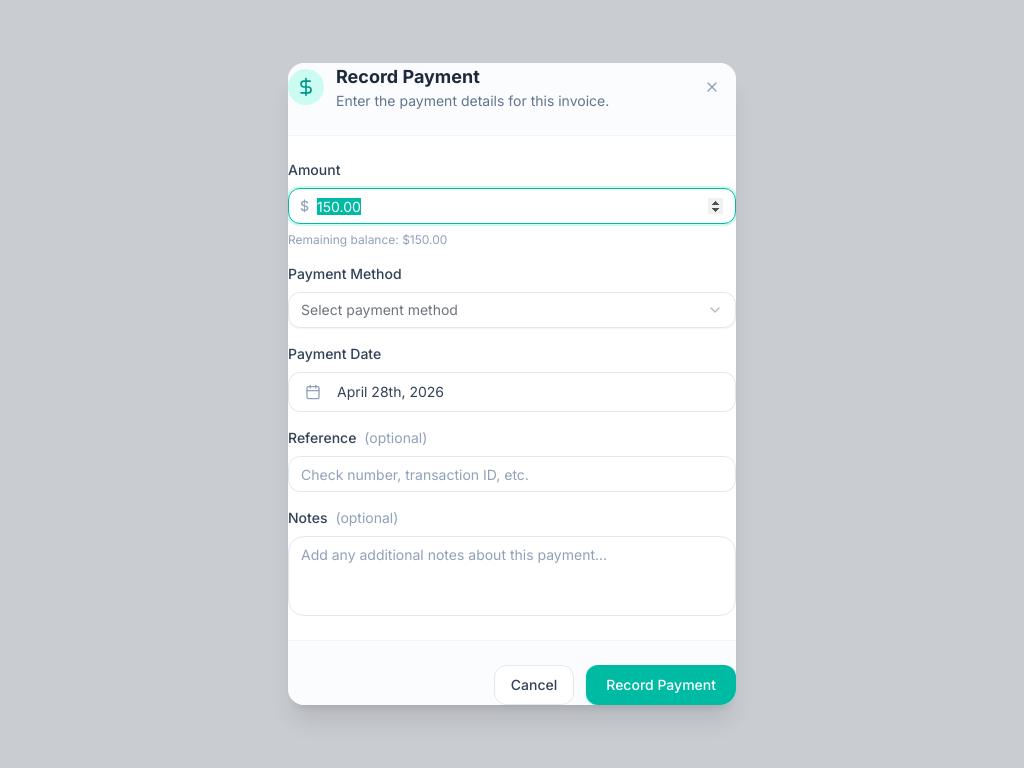
PaymentDialog › shows error when amount is invalid
This screenshot has width=1024, height=768.
Replace the text in the number field with test id "payment-amount" with "0" at x=512, y=206, box [288,188,736,224]
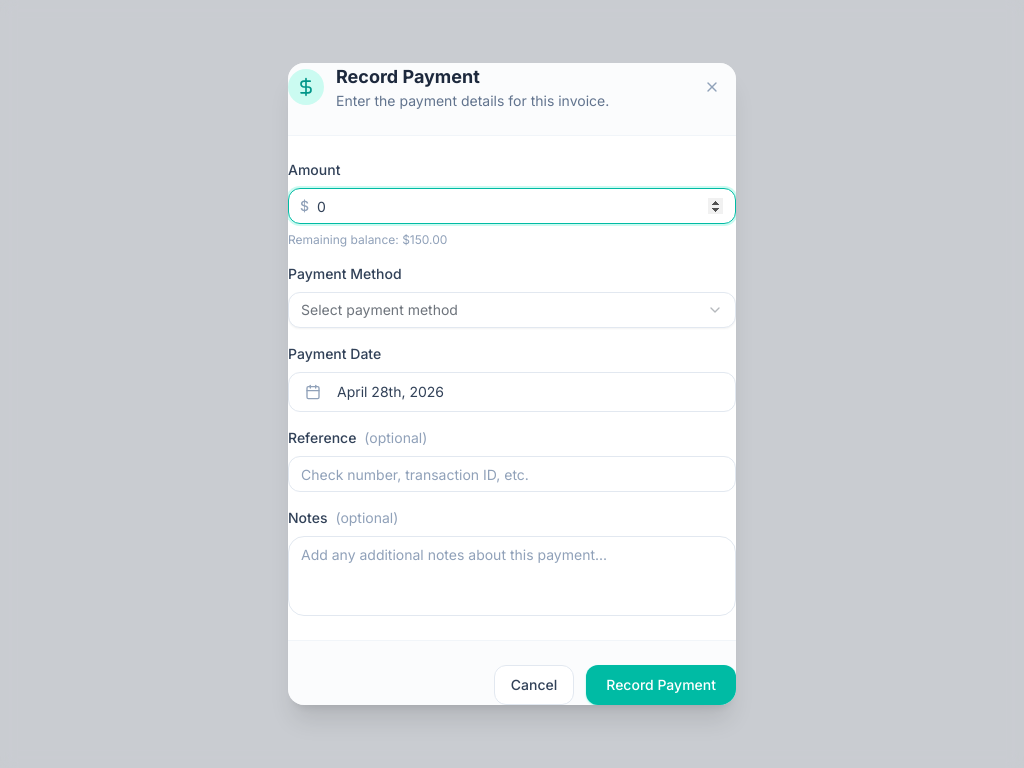
Click the button with test id "submit-payment-btn" at x=661, y=685, box [586,665,736,705]
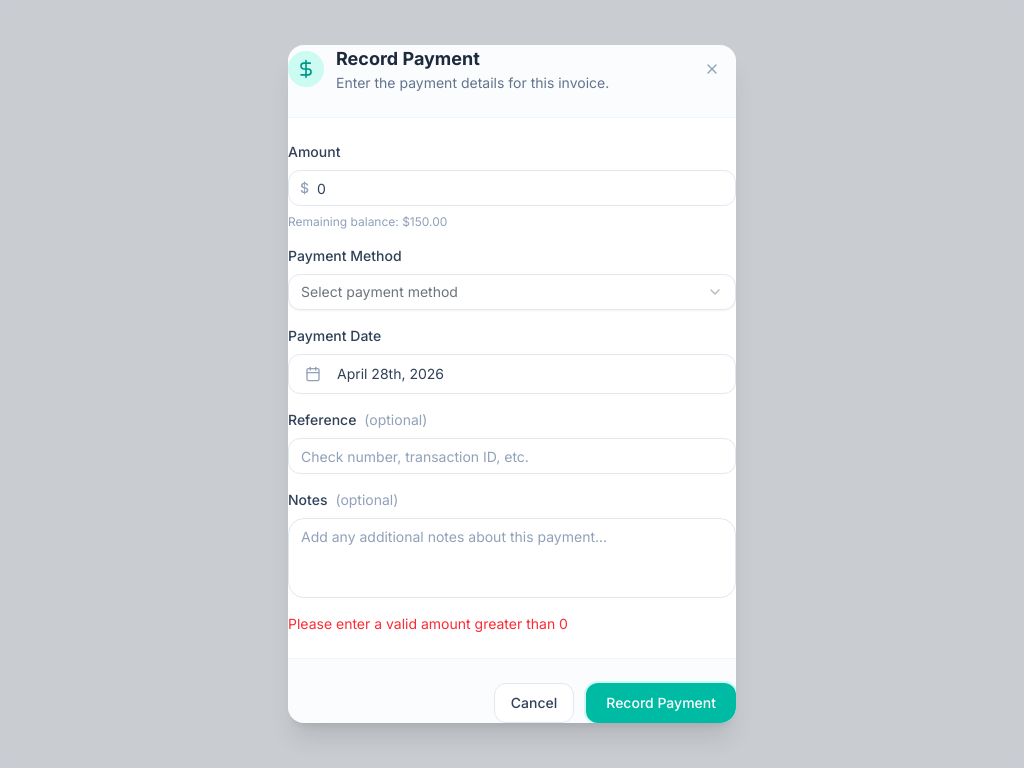
Expected: the text "Please enter a valid amount greater than 0" is shown, [288,615,568,632]
